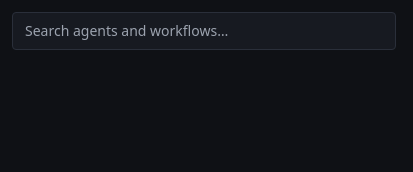
SearchBox › closes the list on Escape
Type "review" into the dropdown at (204,31), box [12,12,396,50]
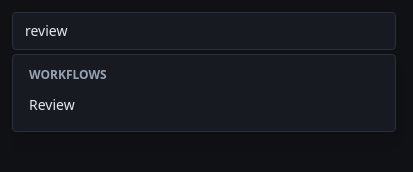
Check: the text "Review" is shown, box [29,95,75,114]
Press Escape in the dropdown, box [12,12,396,50]
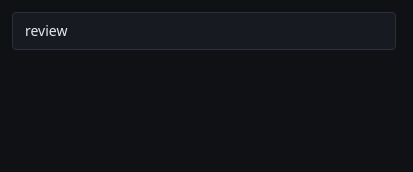
Check: the list is gone
